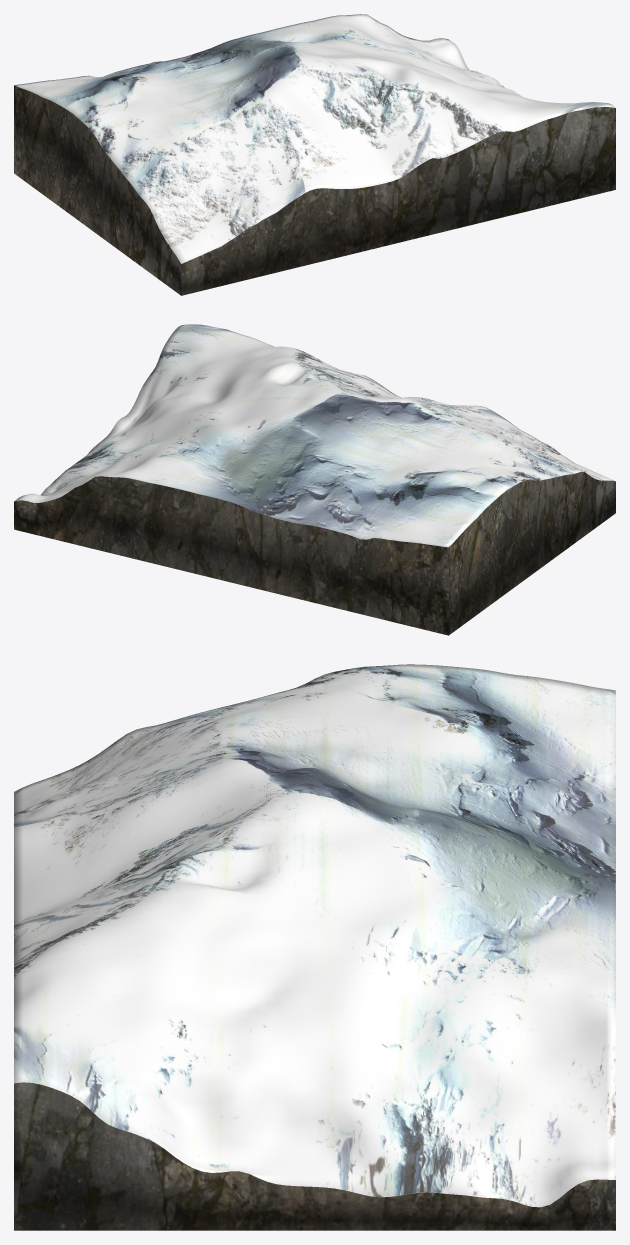
The model's file is Denali.glb.
The picture shows the model from 3 angles, top to bottom: view 1: azimuth 30°, elevation 25°; view 2: azimuth 150°, elevation 25°; view 3: azimuth 270°, elevation 25°; orthographic projection. The views are drawn at different scales.
Parts seen in each view (by area): view 1: EXPORT_GOOGLE_SAT_WM; view 2: EXPORT_GOOGLE_SAT_WM; view 3: EXPORT_GOOGLE_SAT_WM.
Boxes of the visible parts, left/top/right/bottom form: EXPORT_GOOGLE_SAT_WM: left=14, top=14, right=615, bottom=295; EXPORT_GOOGLE_SAT_WM: left=14, top=324, right=615, bottom=635; EXPORT_GOOGLE_SAT_WM: left=14, top=664, right=615, bottom=1230.
Size of the model in its own units: 13.76 by 3.89 by 9.17.
2 materials, 2 textured.
